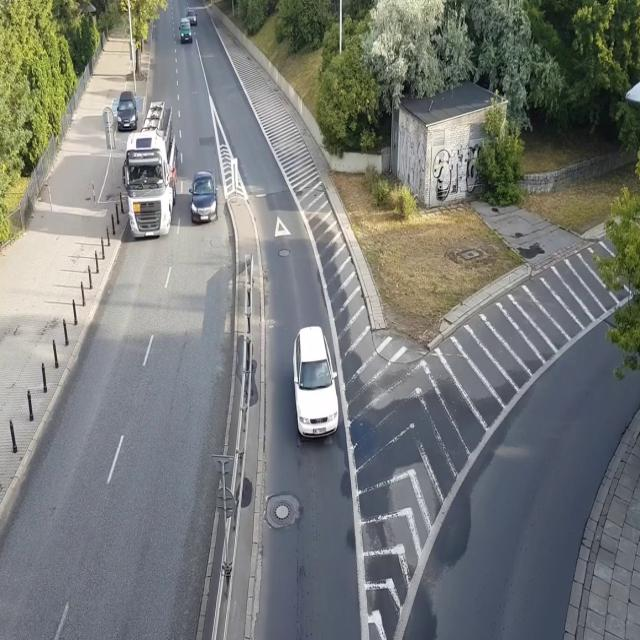car: (290, 326, 340, 439), (190, 170, 218, 222), (115, 90, 138, 134), (186, 7, 198, 25)
truck: (122, 102, 179, 242)
van: (178, 18, 192, 44)
